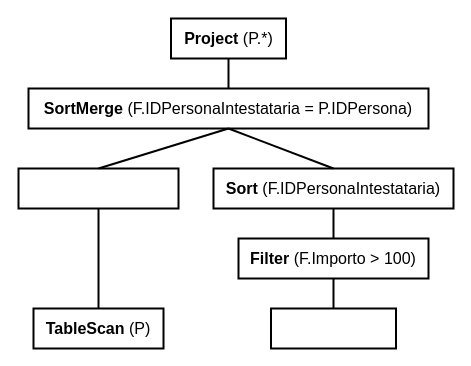
Image size: 471x366. Some labels were removed from this diagram. Here are the shapes that lost their labels. From the top down, the centre of each, then its label:
(98,188): Sort (P.IDPersona)
(333,328): TableScan (F)
